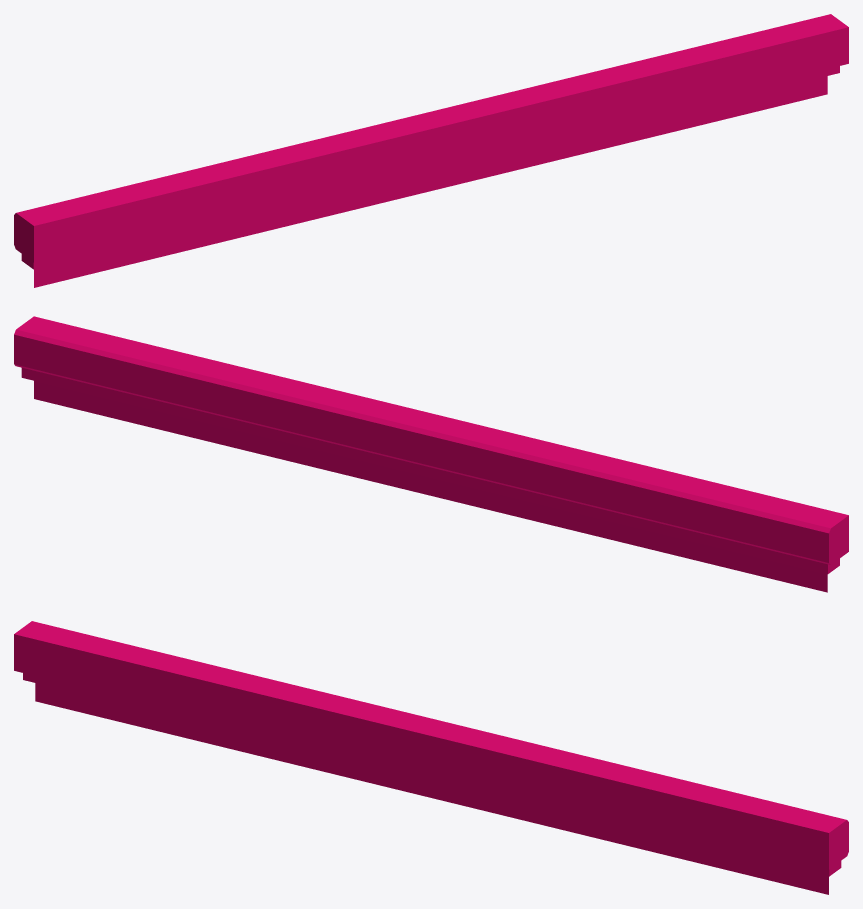
File: Venitian_Blinds_03_Lod0.fbx
3 renders of one model, top to bottom at view 1: azimuth 30°, elevation 25°; view 2: azimuth 150°, elevation 25°; view 3: azimuth 330°, elevation 25°, orthographic.
Visible parts, largest first — view 1: Venitian_Blinds_03_Lod0; view 2: Venitian_Blinds_03_Lod0; view 3: Venitian_Blinds_03_Lod0.
Part boxes in pixels (x1,y1,x2,y2): Venitian_Blinds_03_Lod0: [14, 14, 848, 287]; Venitian_Blinds_03_Lod0: [14, 316, 848, 592]; Venitian_Blinds_03_Lod0: [14, 621, 848, 894].
Bounding box in the file's own units: 179 × 15.14 × 7.6.
